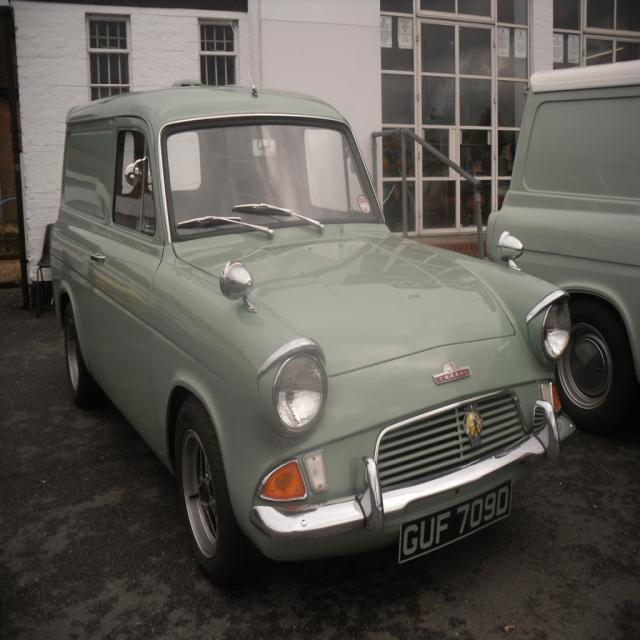other: (50, 77, 572, 600), (484, 55, 639, 412)
